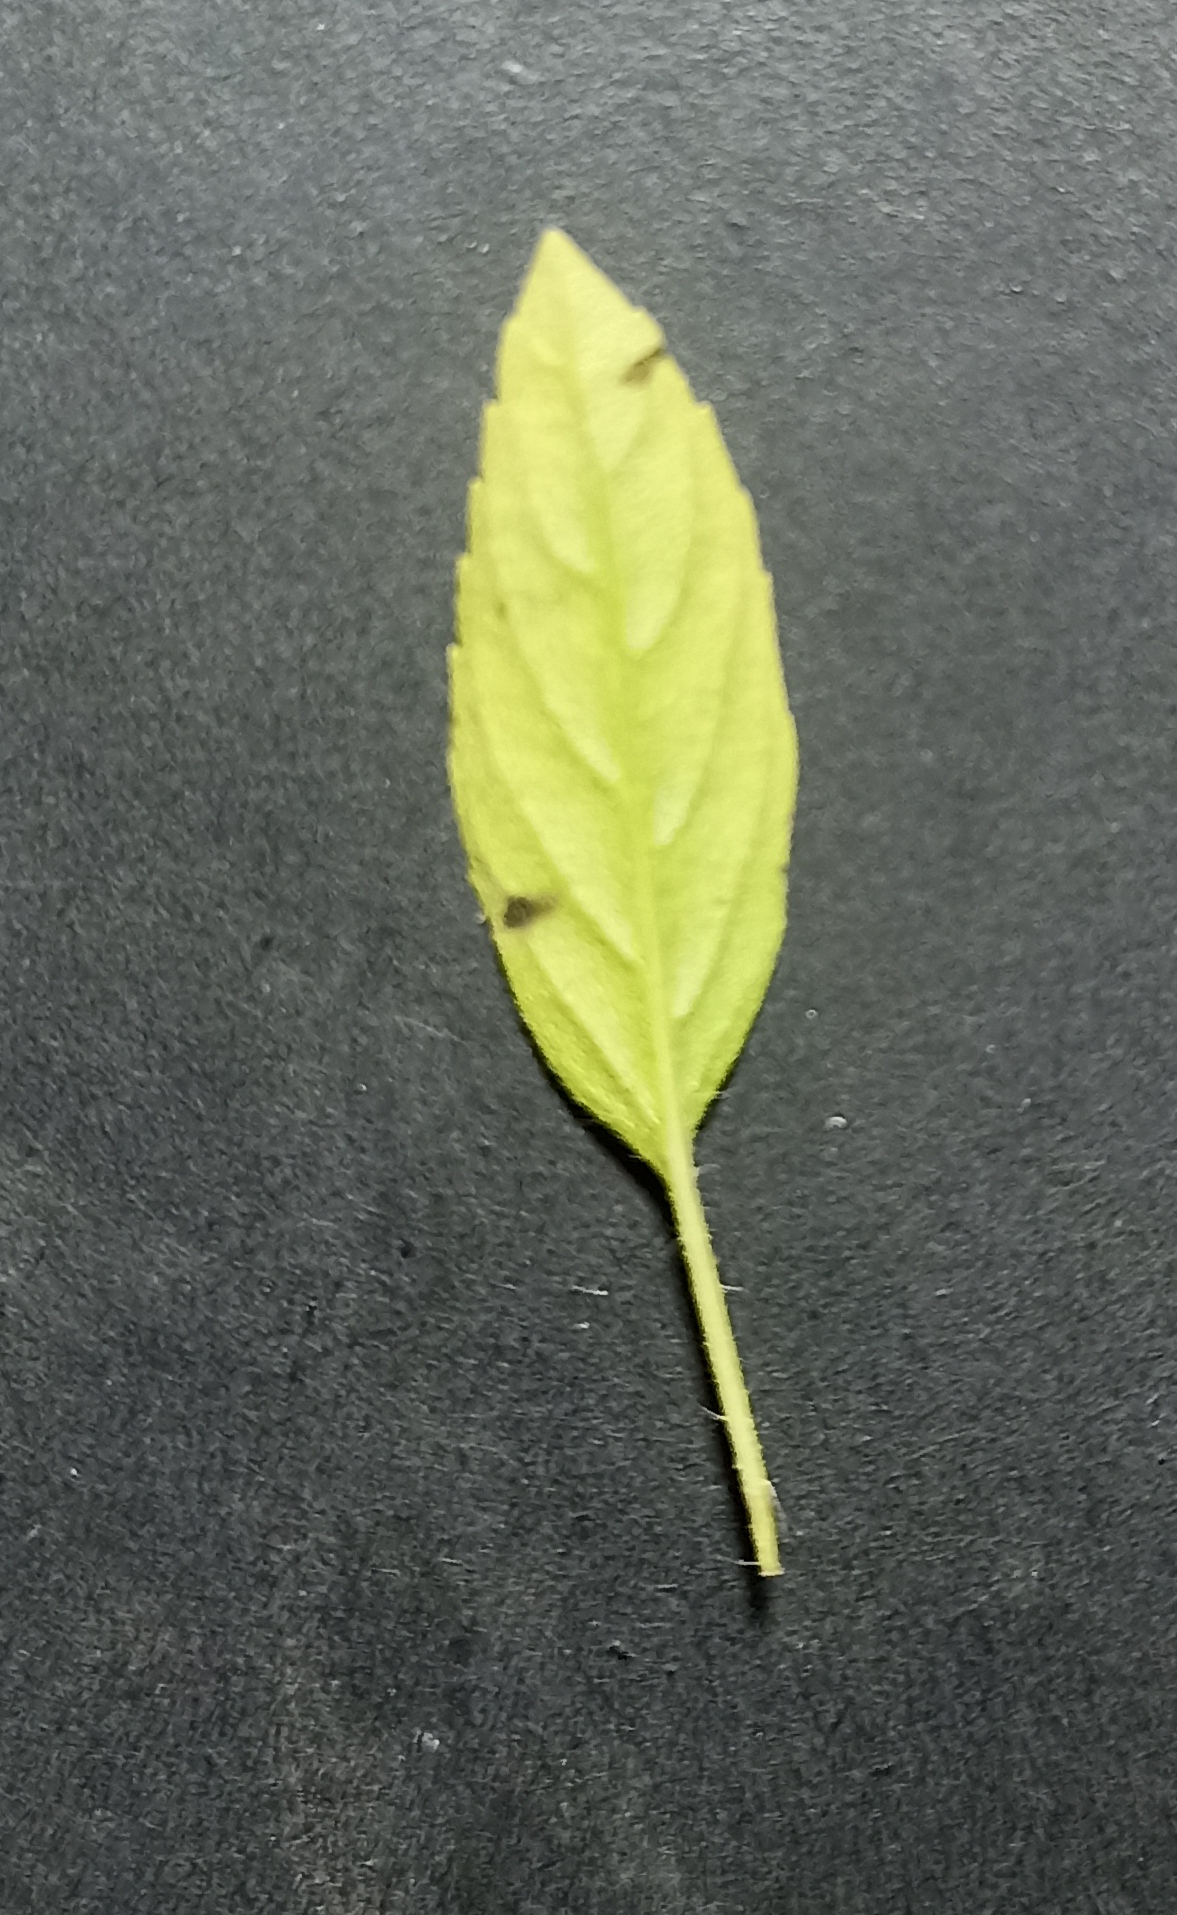Healthy: (420, 191, 827, 1186)
